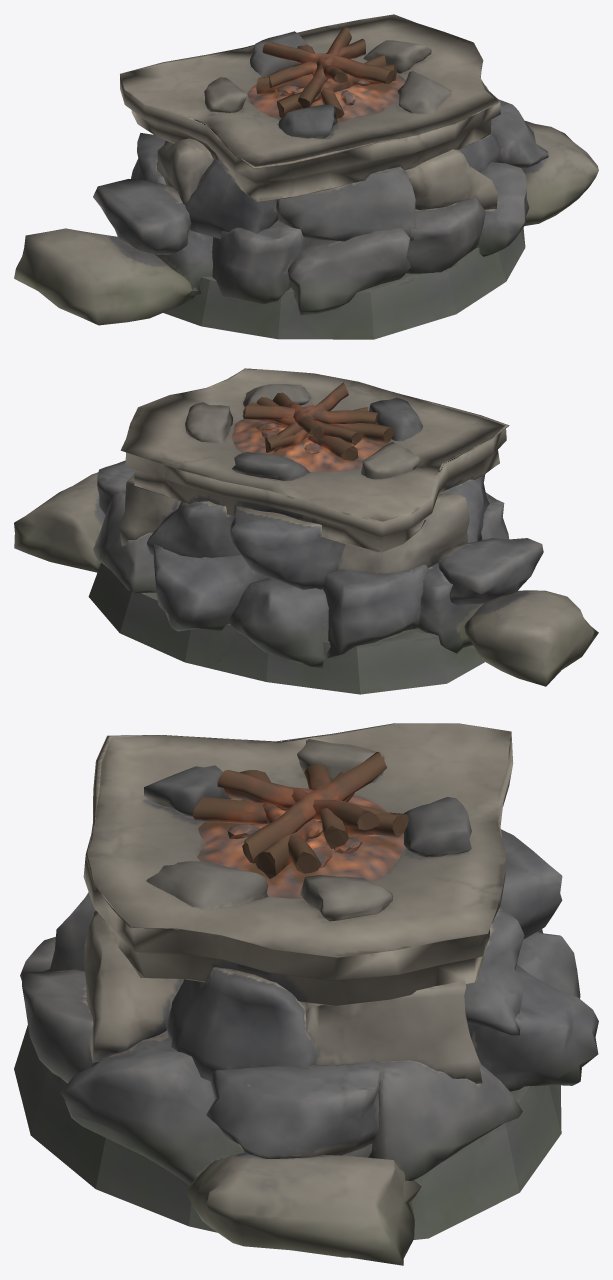
File: ararat_altar_cyclopean.glb
3 renders of one model, top to bottom at view 1: azimuth 30°, elevation 25°; view 2: azimuth 150°, elevation 25°; view 3: azimuth 270°, elevation 25°, orthographic. The views are drawn at different scales.
Visible parts, largest first — view 1: Altar_Stone, Altar_Charcoal_Ember; view 2: Altar_Stone, Altar_Charcoal_Ember; view 3: Altar_Stone, Altar_Charcoal_Ember.
Part boxes in pixels (x1,y1,x2,y2): Altar_Stone: (14,14,598,339); Altar_Charcoal_Ember: (247,27,405,122); Altar_Stone: (14,368,598,694); Altar_Charcoal_Ember: (232,382,393,471); Altar_Stone: (14,723,598,1265); Altar_Charcoal_Ember: (192,752,408,898).
Bounding box in the file's own units: 4.18 × 1.56 × 2.53.
Materials: 2 (2 with a texture image).
